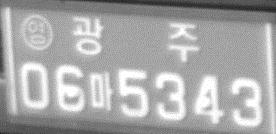0: (19, 61, 49, 109)
3: (230, 76, 263, 128), (155, 71, 188, 122)
4: (193, 75, 224, 124)
5: (116, 68, 150, 118)
6: (54, 64, 85, 112)
광주_D: (72, 16, 199, 62)
마: (87, 70, 114, 111)
영: (20, 13, 53, 51)
